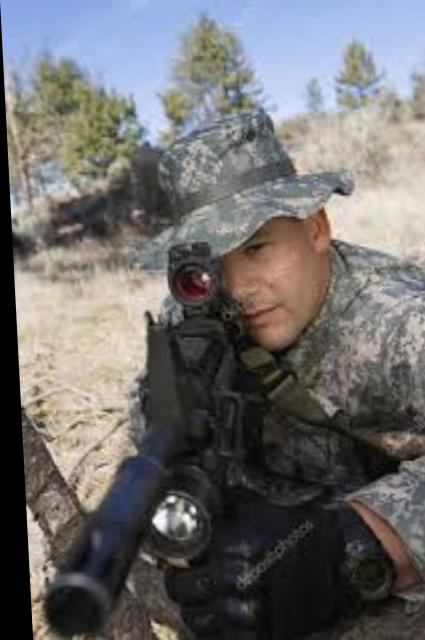other: (142, 127, 424, 617)
